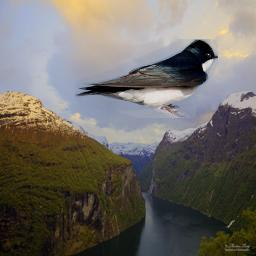Swallow: (75, 39, 218, 118)
